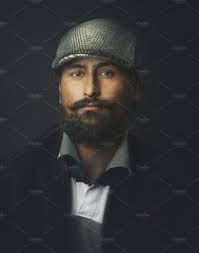Indian_Male: (61, 45, 130, 145)
